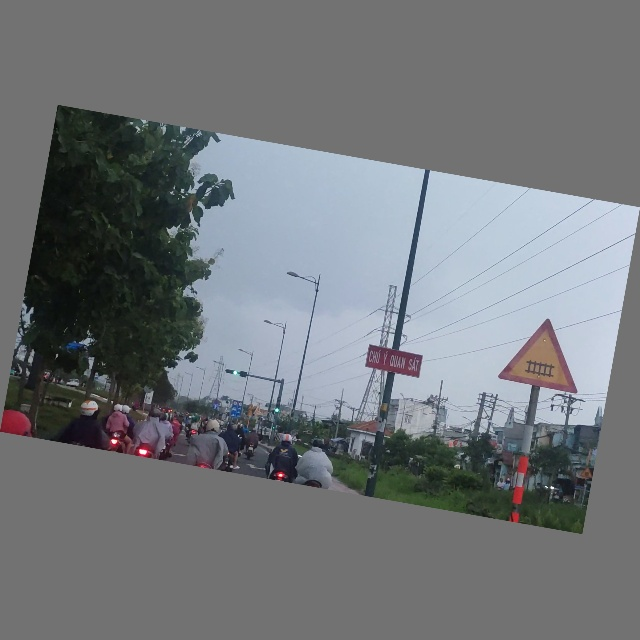W.210: (497, 311, 589, 396)
